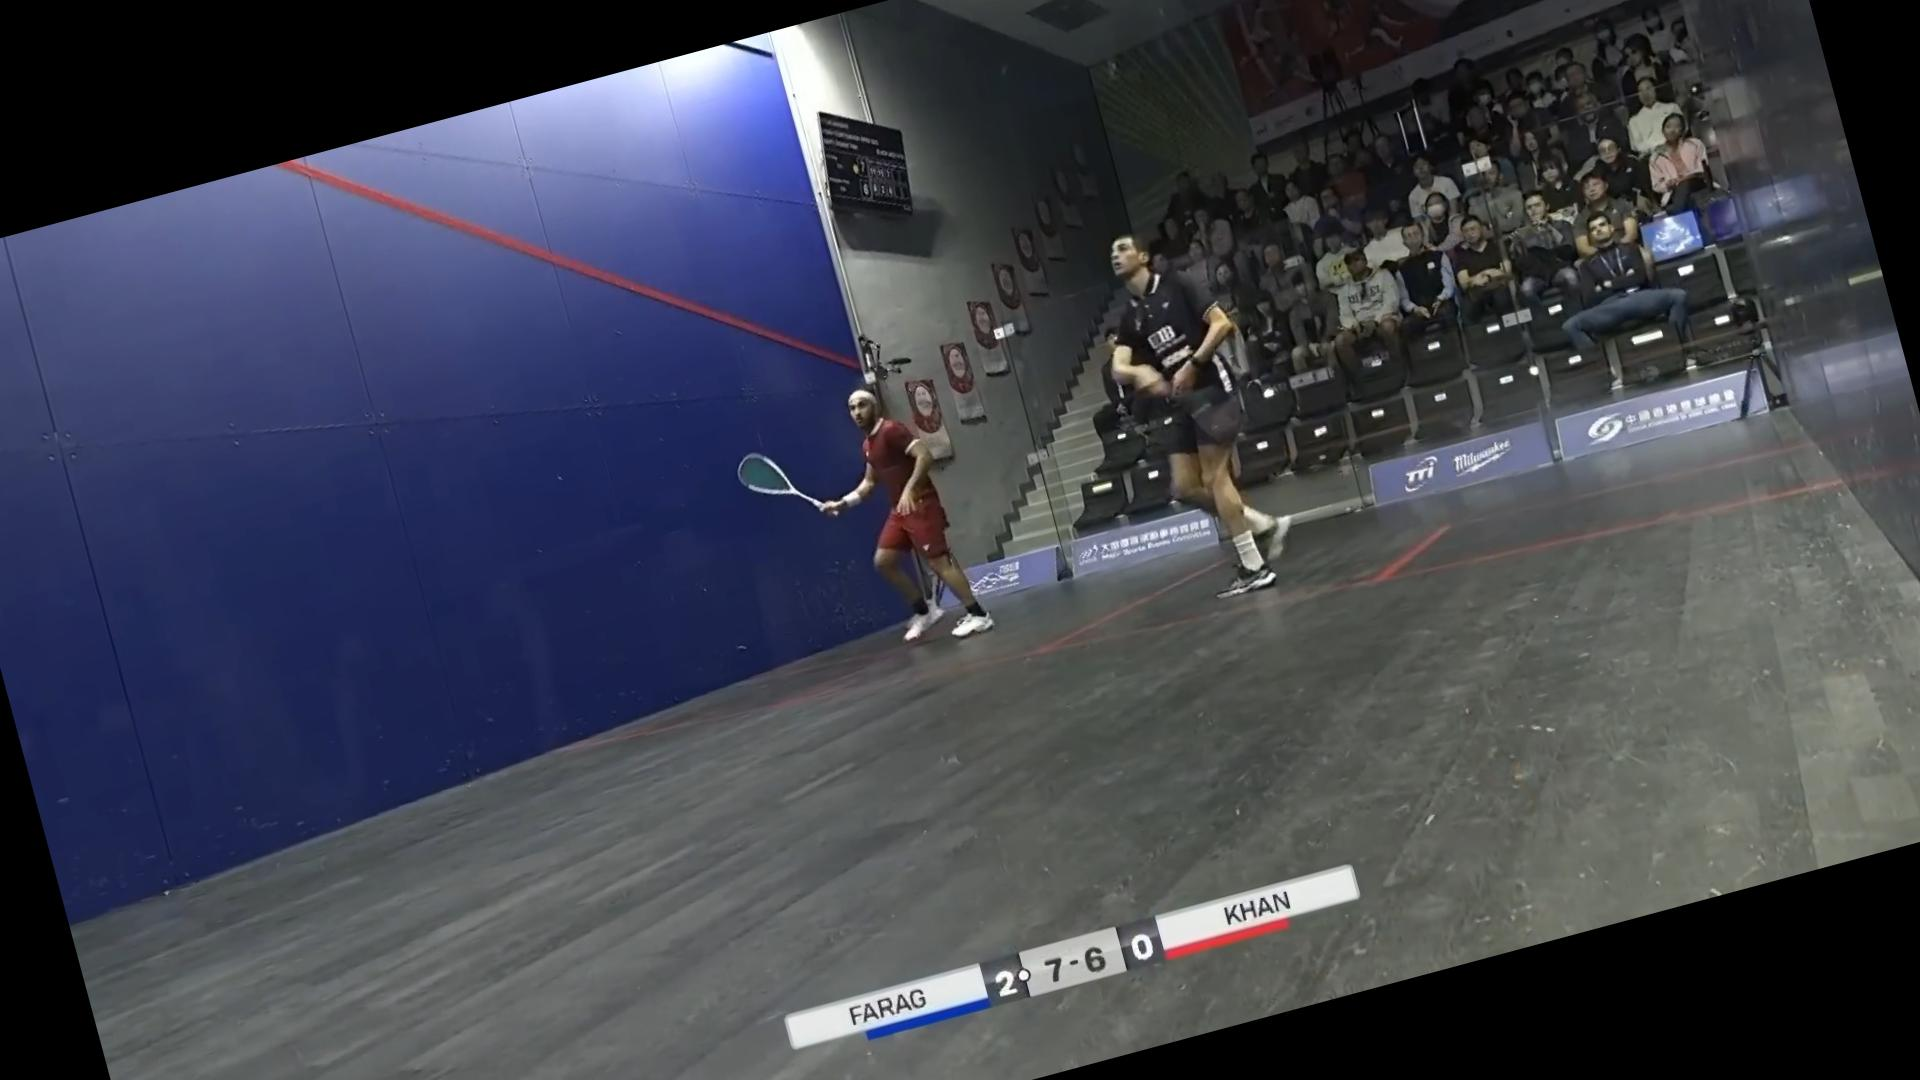Racket: (719, 430, 836, 537)
